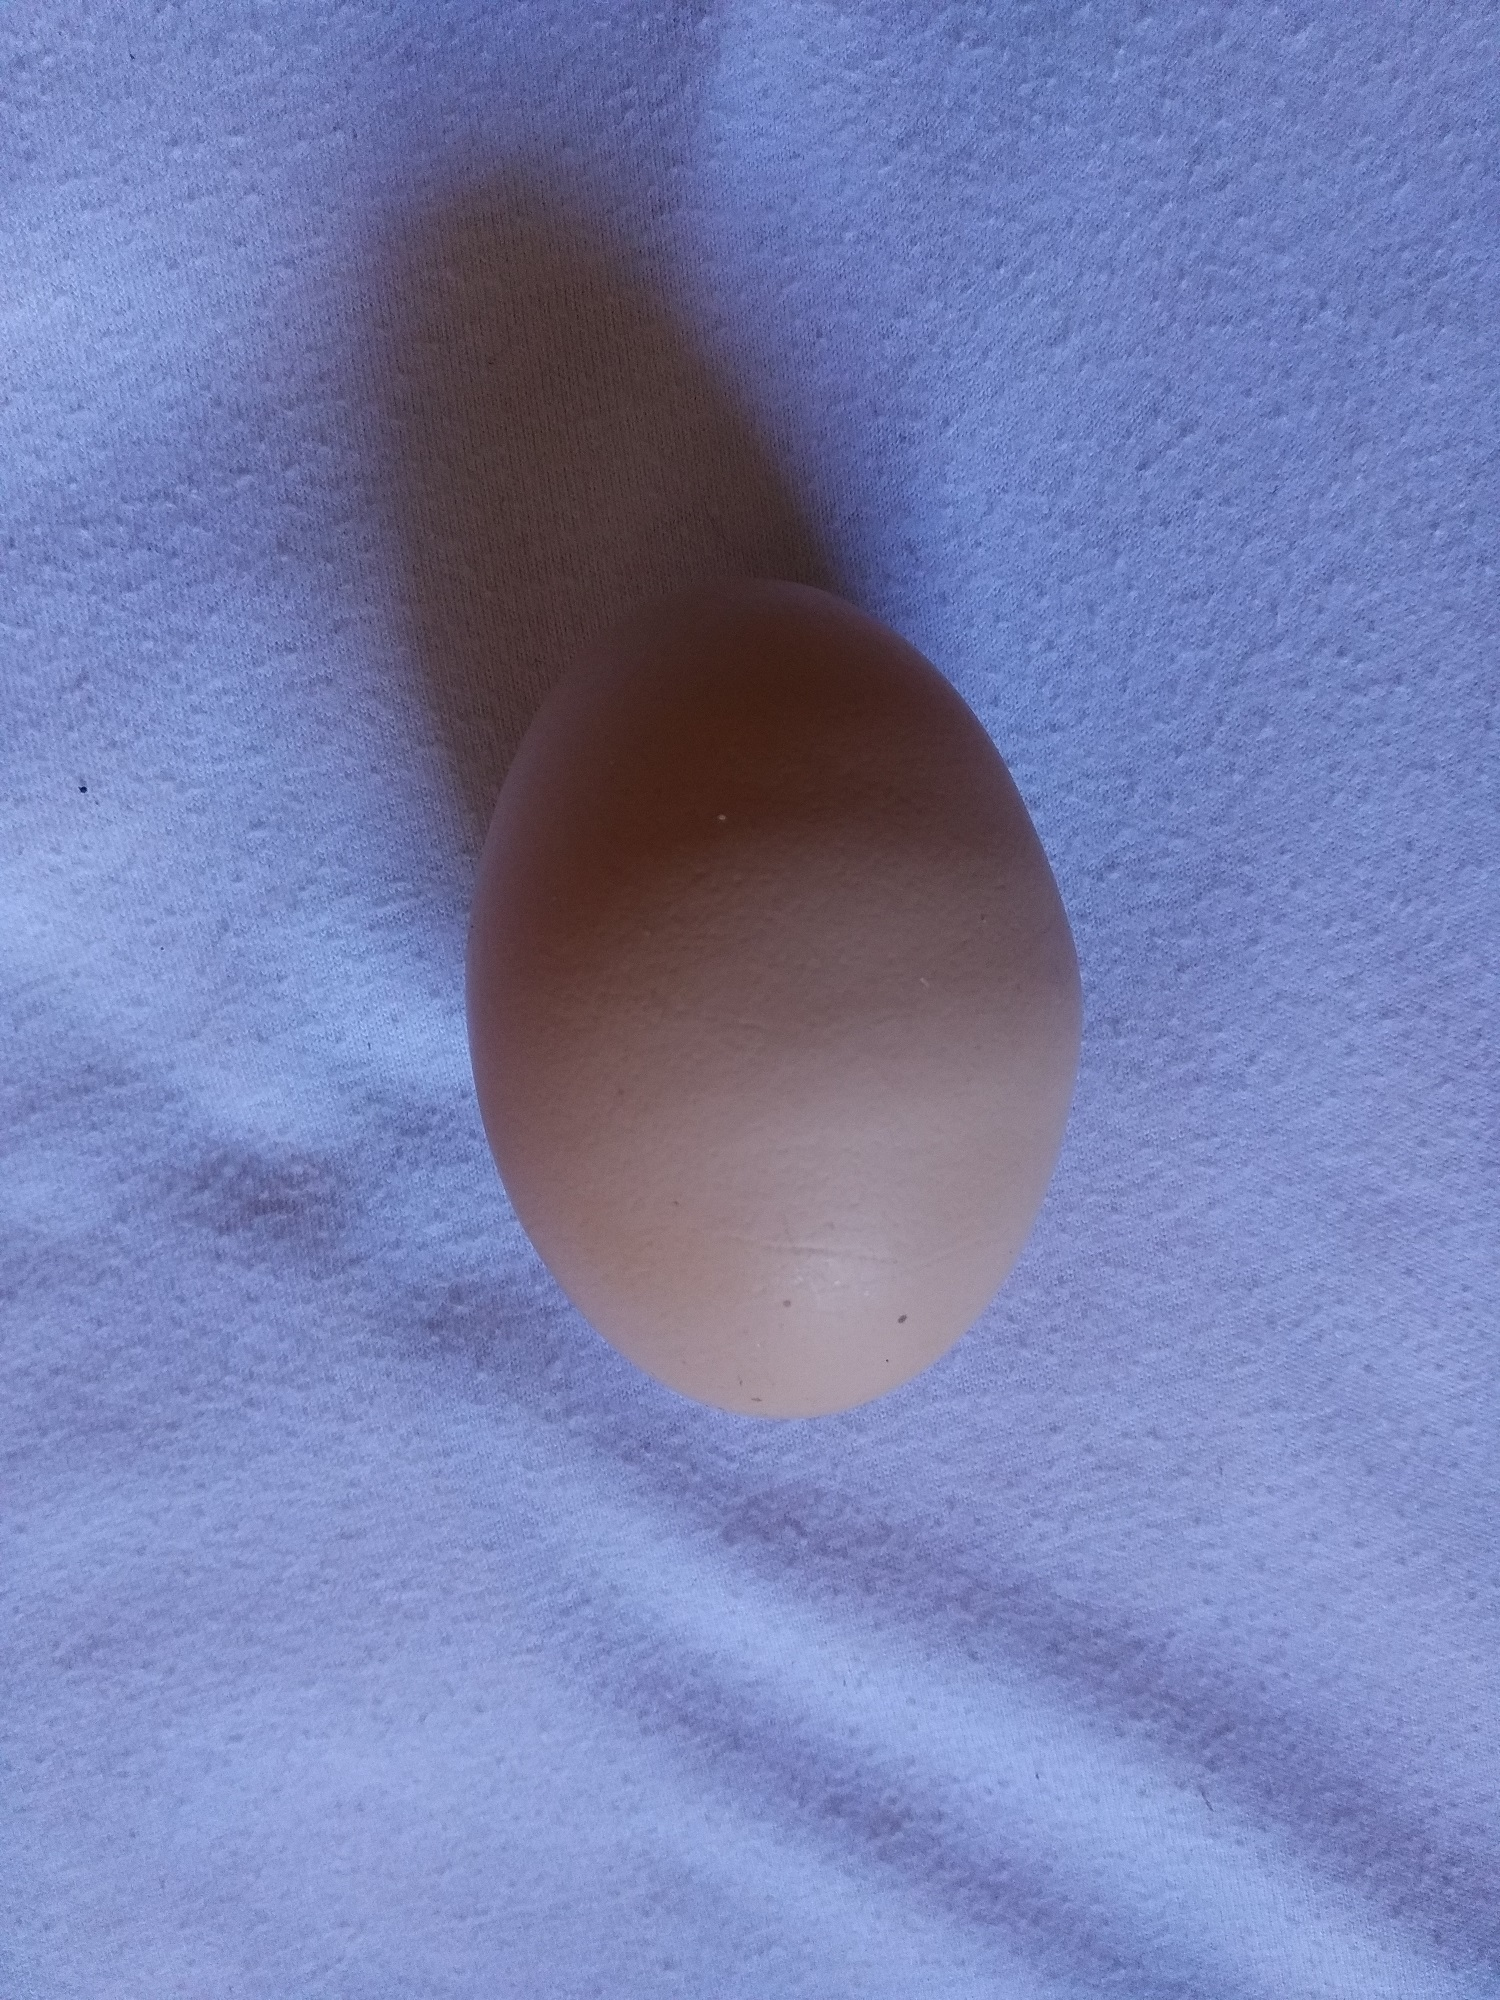Female: (446, 564, 1089, 1431)
